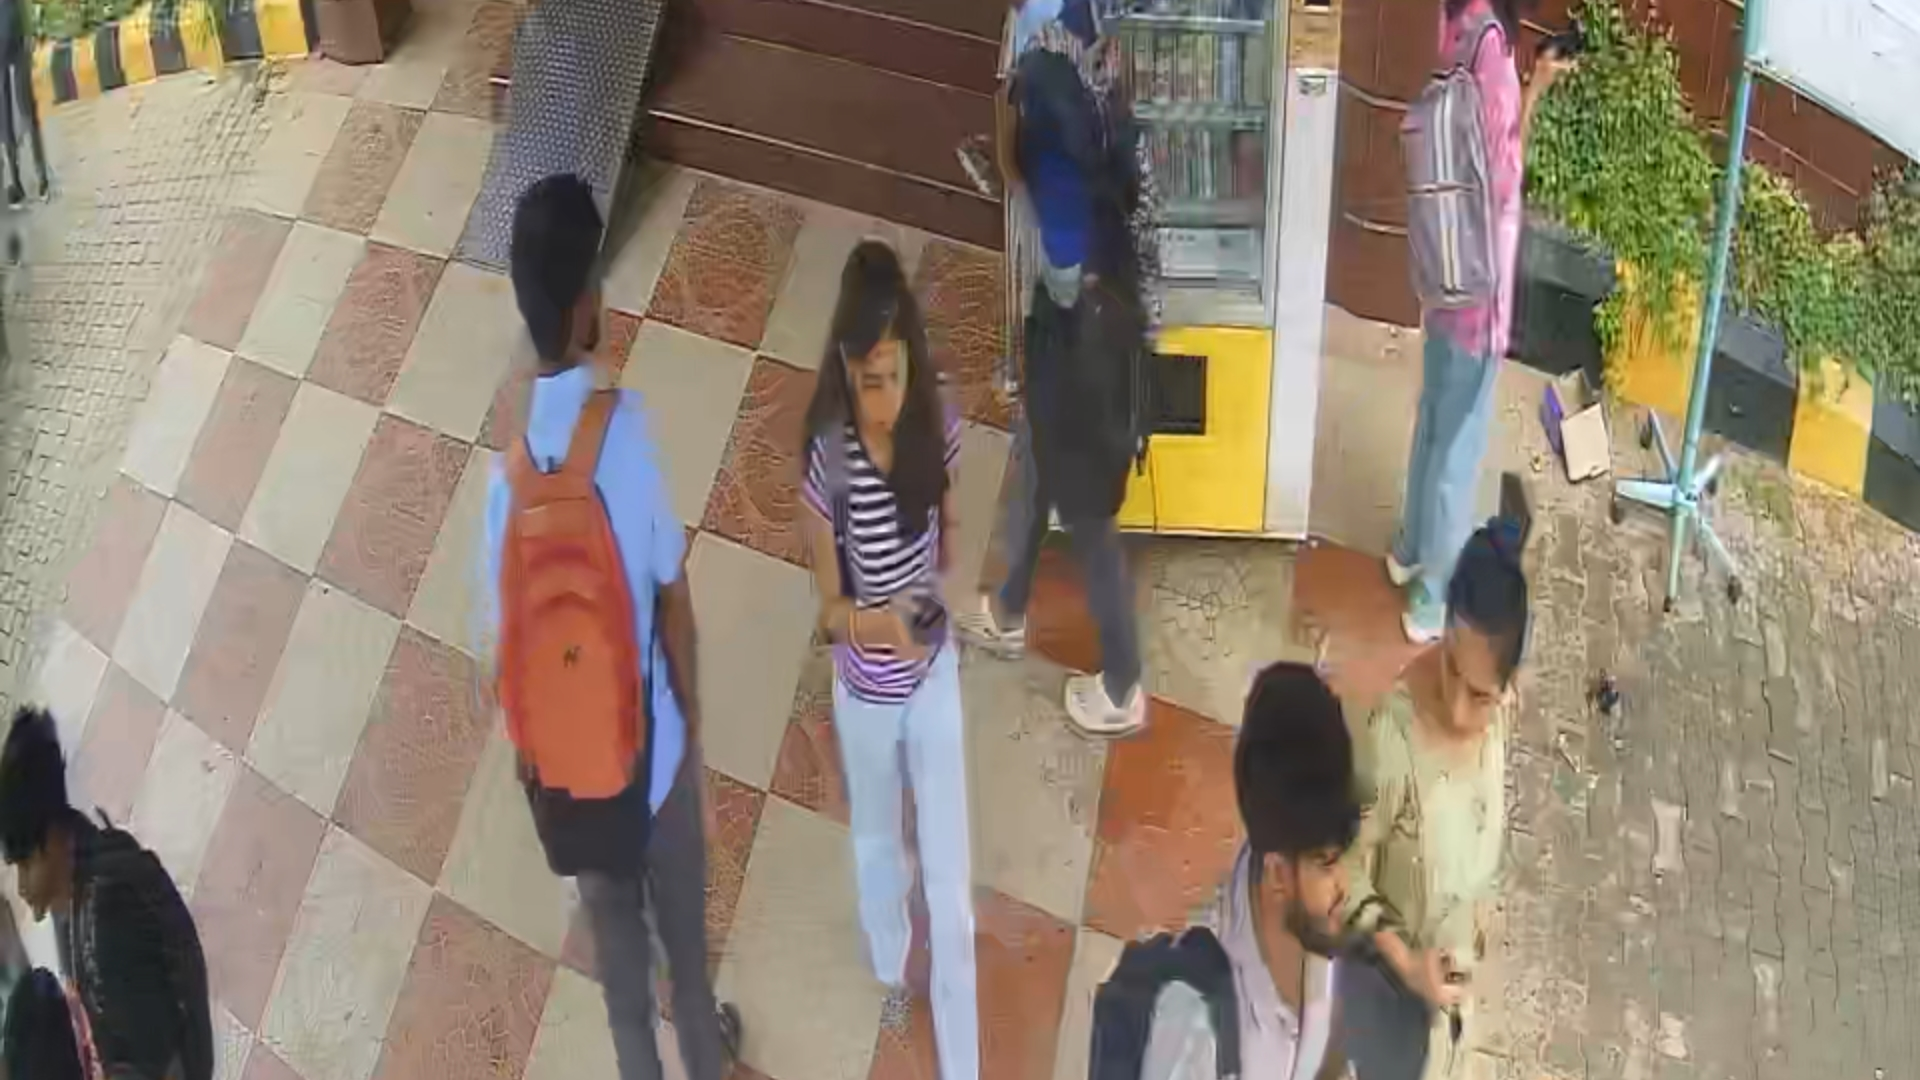intruder: (766, 237, 1036, 1080)
